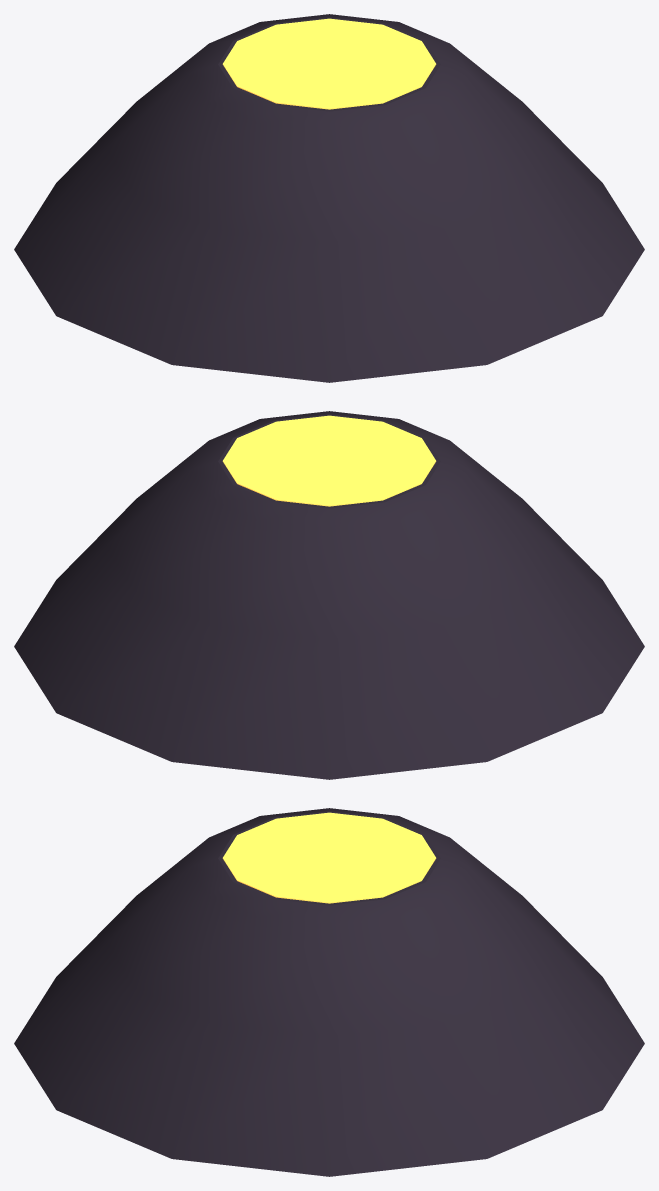
File: lava_vent.glb
3 views of the same model, one above another, from view 1: azimuth 30°, elevation 25°; view 2: azimuth 150°, elevation 25°; view 3: azimuth 270°, elevation 25° (orthographic).
Parts seen in each view (by area): view 1: lava_vent_m; view 2: lava_vent_m; view 3: lava_vent_m.
Boxes of the visible parts, x1=… form: lava_vent_m: x1=14, y1=14, x2=644, y2=382; lava_vent_m: x1=14, y1=411, x2=644, y2=779; lava_vent_m: x1=14, y1=808, x2=644, y2=1176.
Bounding box in the file's own units: 6.8 × 2.21 × 6.8.
